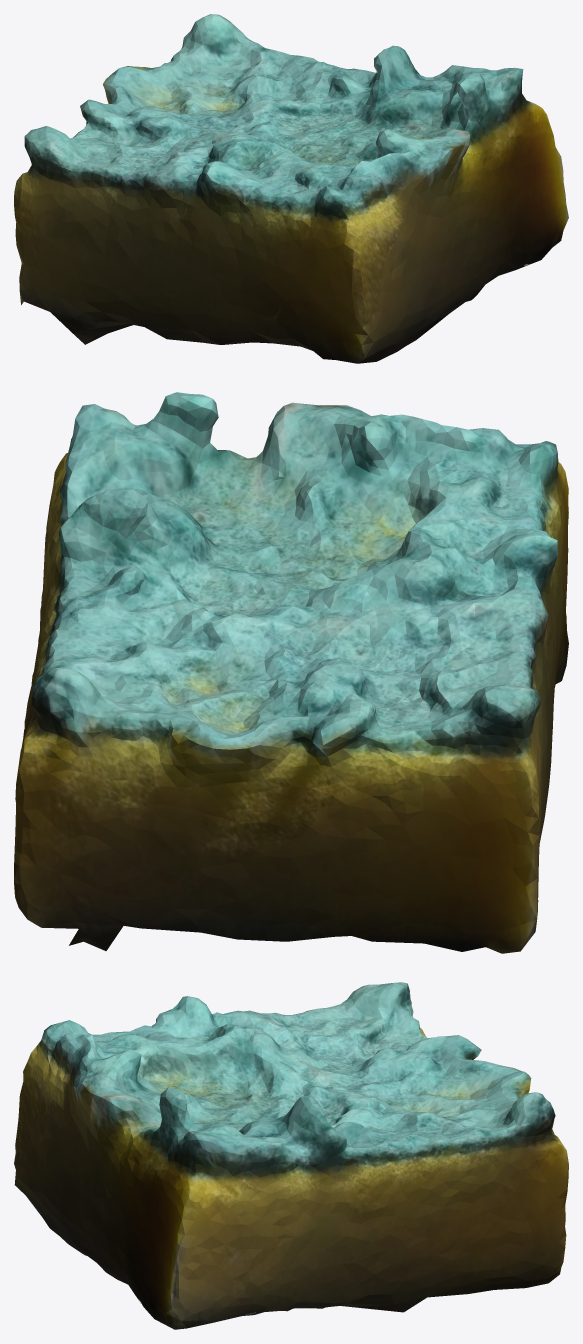
3 renders of one model, top to bottom at view 1: azimuth 30°, elevation 25°; view 2: azimuth 150°, elevation 25°; view 3: azimuth 270°, elevation 25°, orthographic. The views are drawn at different scales.
Size of the model in its own units: 0.4773 by 0.253 by 0.4963.
Materials: 1 (1 with a texture image).
